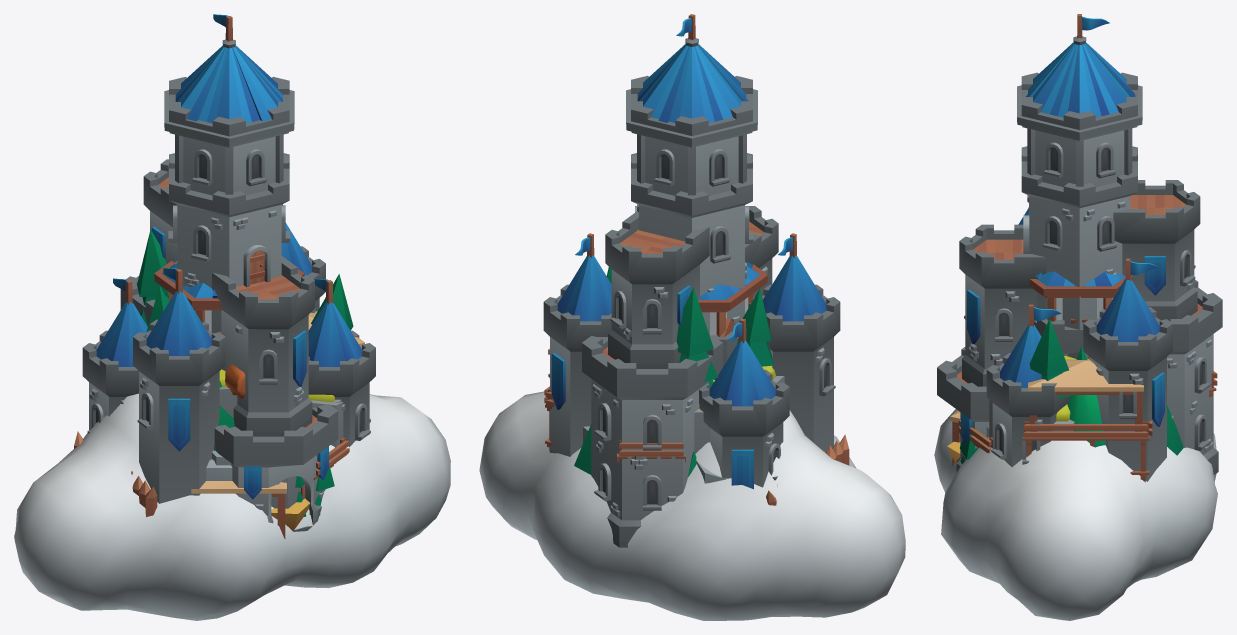
File: village.glb
3 views of the same model, side by side, from view 1: azimuth 30°, elevation 25°; view 2: azimuth 150°, elevation 25°; view 3: azimuth 270°, elevation 25° (orthographic). The views are drawn at different scales.
Visible parts, largest first — view 1: building_castle_blue, cloud_big, mountain_A_grass_trees, building_scaffolding, building_tower_A_top_blue, fence_wood_straight; view 2: building_castle_blue, cloud_big, mountain_A_grass_trees, building_tower_A_top_blue, building_scaffolding, trees_A_large; view 3: building_castle_blue, cloud_big, building_scaffolding, building_tower_A_top_blue, mountain_A_grass_trees, trees_B_medium, building_tower_A_blue, trees_A_large.
Boxes of the visible parts, bbox=[...] form: building_castle_blue: bbox=[82, 14, 375, 531]; cloud_big: bbox=[14, 393, 450, 620]; mountain_A_grass_trees: bbox=[137, 229, 353, 508]; building_scaffolding: bbox=[191, 311, 364, 539]; building_tower_A_top_blue: bbox=[154, 261, 304, 334]; fence_wood_straight: bbox=[74, 431, 157, 517]; building_castle_blue: bbox=[543, 14, 840, 547]; cloud_big: bbox=[479, 391, 905, 620]; mountain_A_grass_trees: bbox=[583, 267, 784, 488]; building_tower_A_top_blue: bbox=[698, 262, 767, 336]; building_scaffolding: bbox=[544, 348, 685, 462]; trees_A_large: bbox=[574, 424, 696, 476]; building_castle_blue: bbox=[937, 14, 1222, 481]; cloud_big: bbox=[934, 409, 1217, 620]; building_scaffolding: bbox=[950, 359, 1217, 482]; building_tower_A_top_blue: bbox=[1029, 271, 1132, 323]; mountain_A_grass_trees: bbox=[989, 318, 1173, 438]; trees_B_medium: bbox=[1067, 395, 1105, 447]; building_tower_A_blue: bbox=[1034, 319, 1083, 353]; trees_A_large: bbox=[956, 405, 1183, 470].
Size of the model in its own units: 3.61 by 4.86 by 2.28.
1 material, 1 textured.
